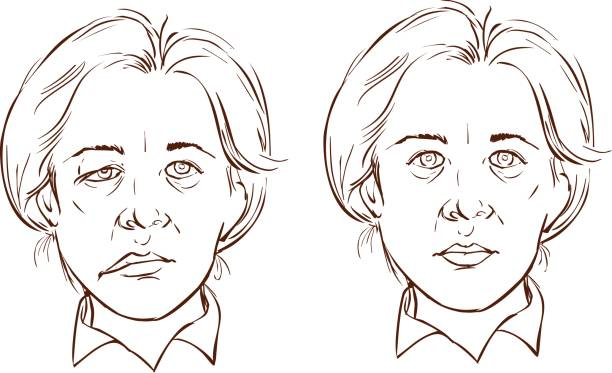stroke: (60, 105, 217, 313)
